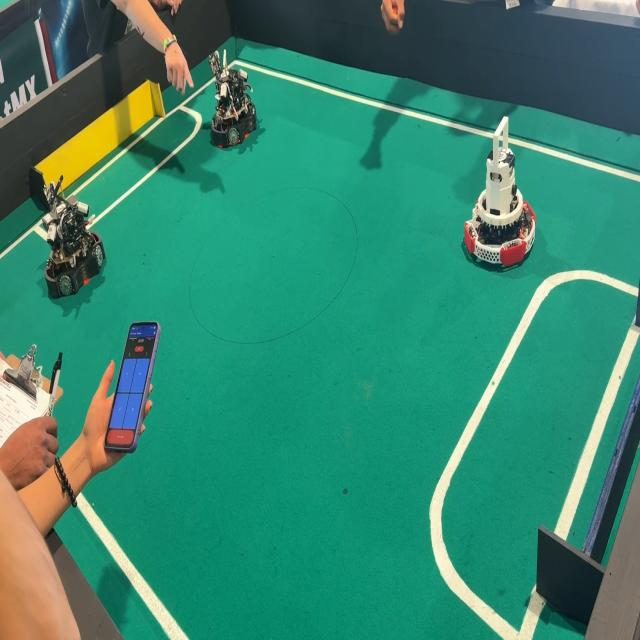Robot: (461, 108, 538, 280), (32, 168, 115, 312), (199, 28, 266, 162)
